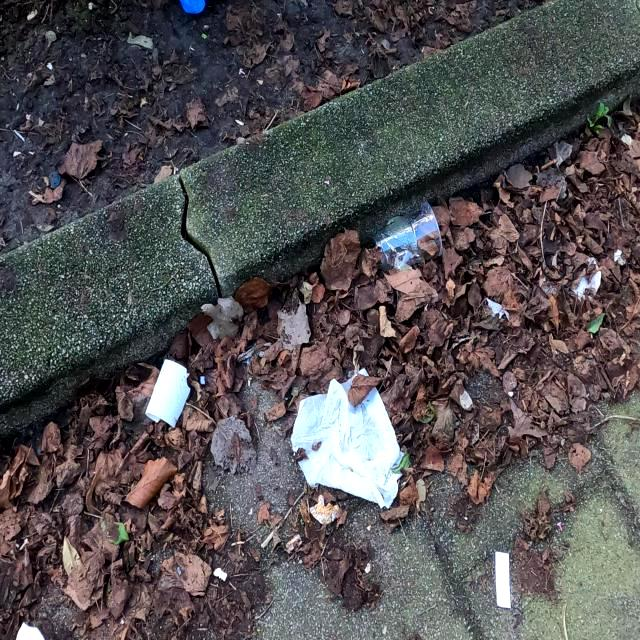Coffee Cup: (368, 196, 444, 278)
Paper: (289, 365, 407, 511), (142, 355, 192, 429)
Plastic: (309, 492, 339, 526)
